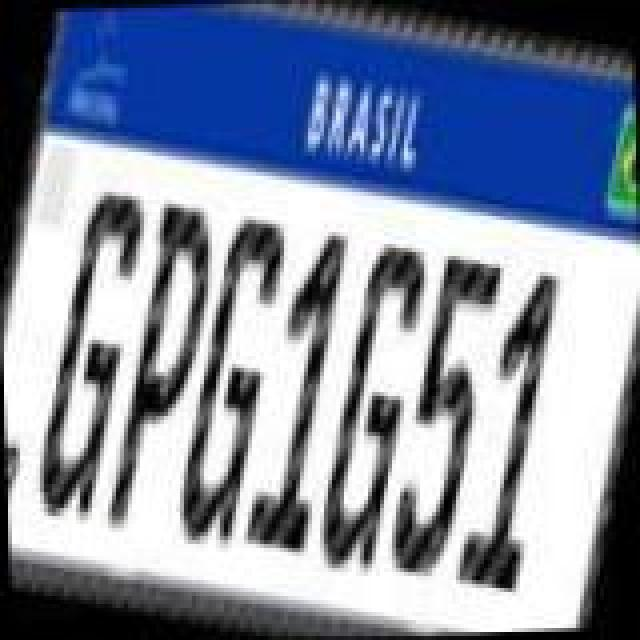1: (442, 258, 590, 602), (228, 222, 376, 558)
5: (372, 248, 516, 588)
G: (14, 178, 162, 526), (156, 208, 304, 556), (298, 232, 442, 568)
P: (88, 192, 236, 540)
